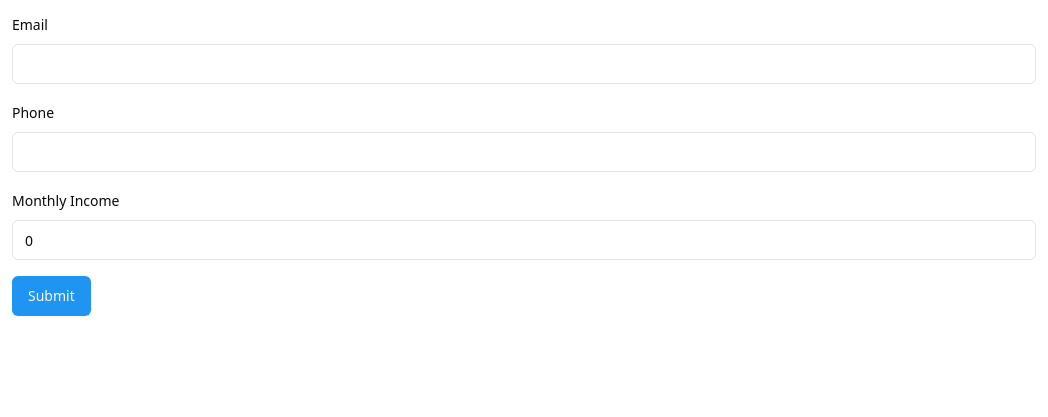
Form Validation › validates phone number length
The width and height of the screenshot is (1048, 417).
Note: Enter short phone number
Type "123" into the field labelled "Phone" at [524, 152], box 12,132 -> 1036,172
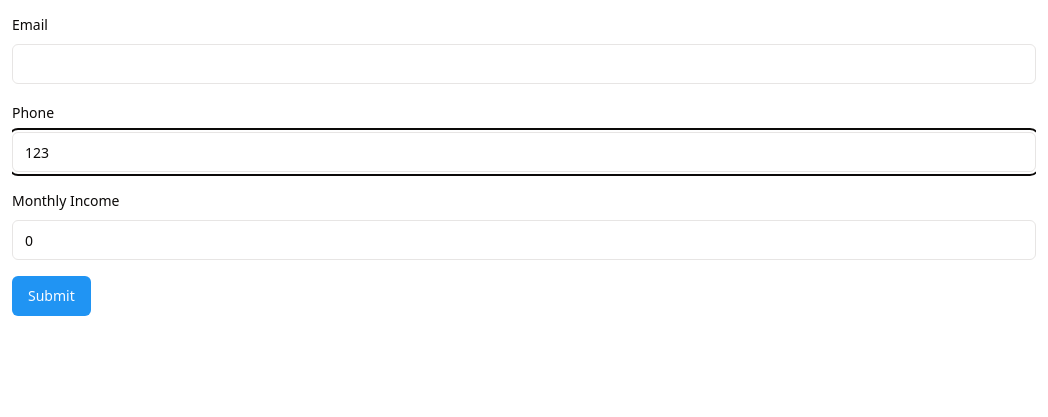
Click the button "Submit" at [51, 296], box 12,276 -> 91,316
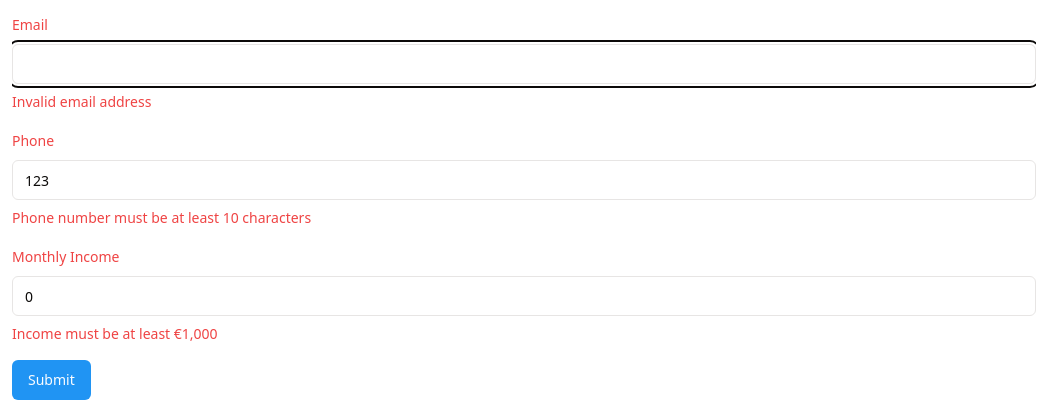
Expected: the text "Phone number must be at least 10 characters" is shown, 12,208 -> 311,227
